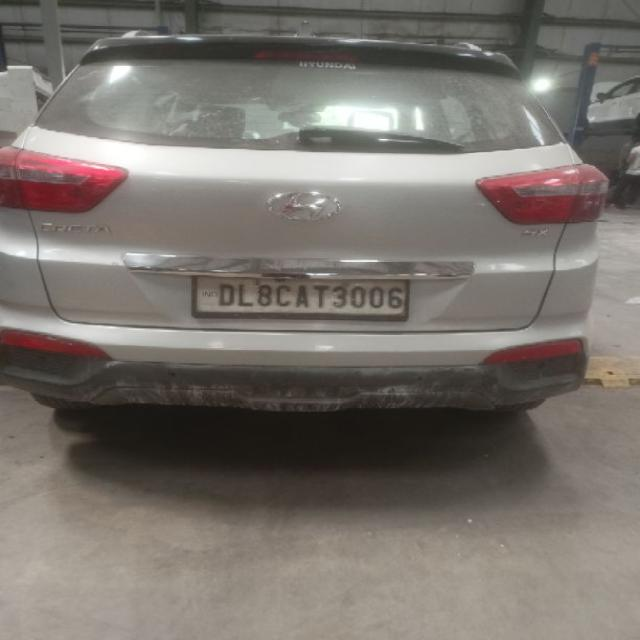license_plate: (190, 274, 410, 321)
